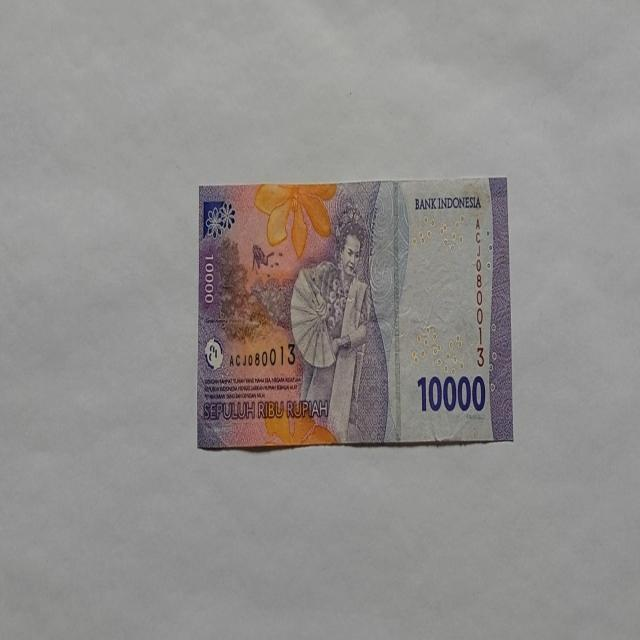sepuluh ribu rupiah: (195, 176, 512, 451)
